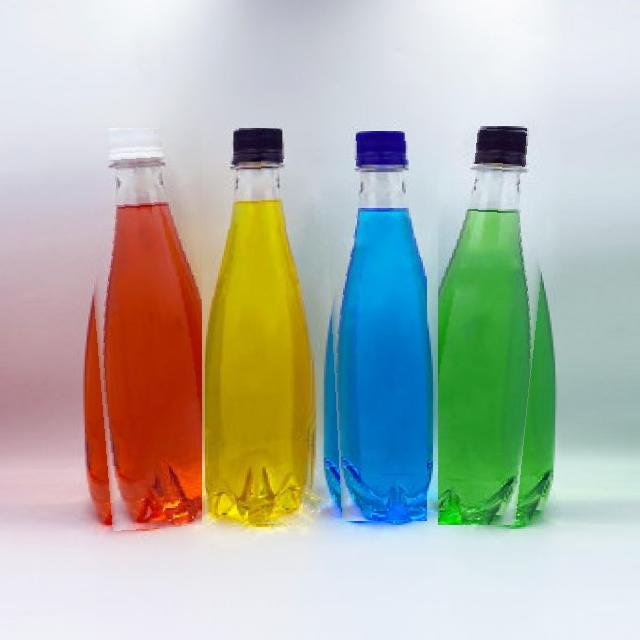plastic bottle: (80, 128, 202, 531), (438, 126, 556, 525), (205, 128, 316, 527), (322, 132, 427, 522)
